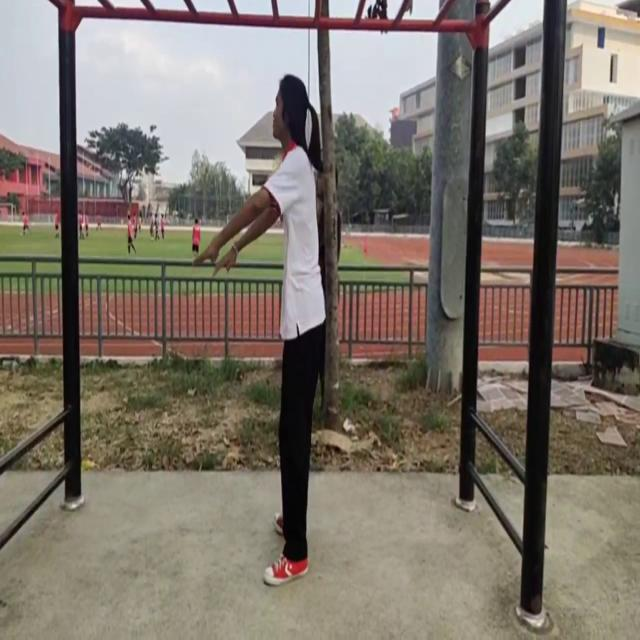stand: (195, 76, 329, 586)
